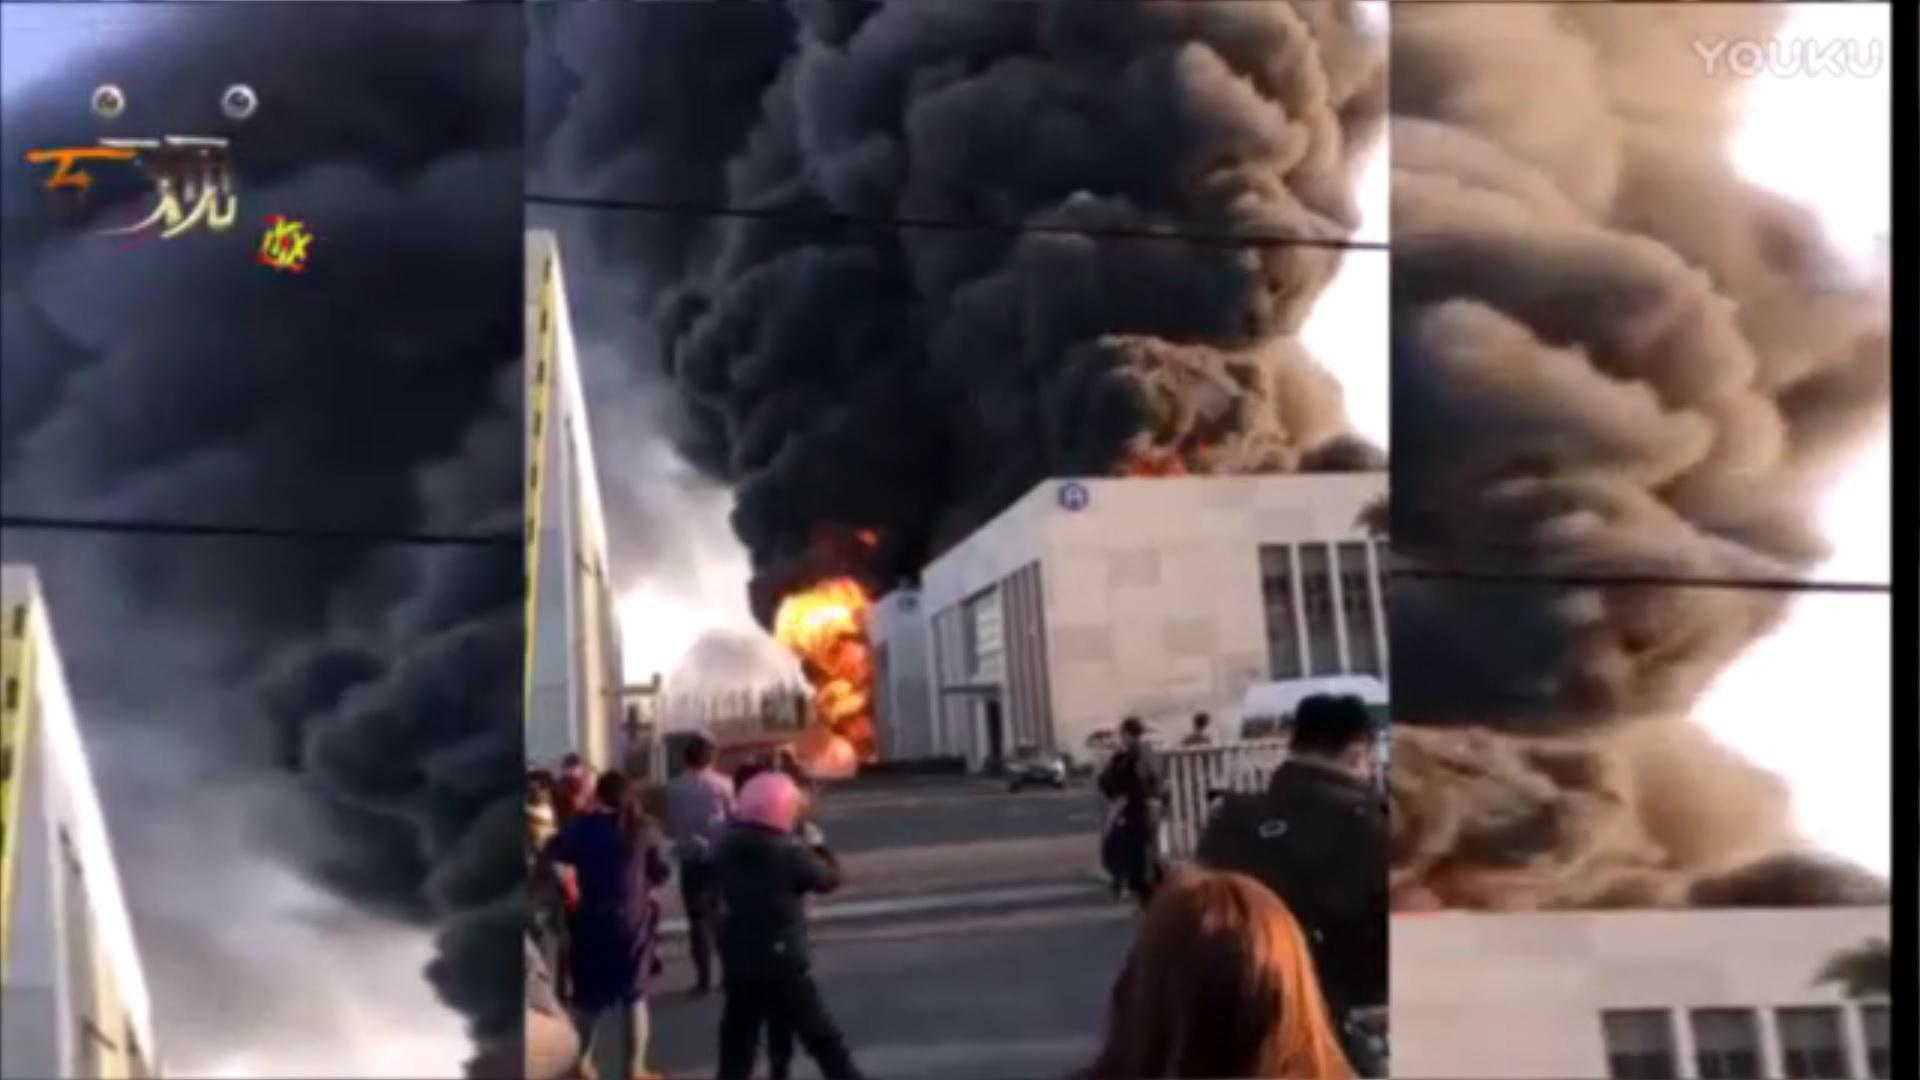fire: (770, 571, 884, 756)
